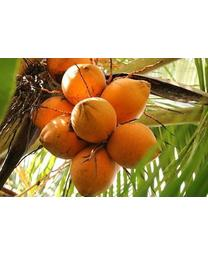coconut: (106, 120, 162, 170), (71, 143, 119, 197), (100, 77, 150, 125), (39, 114, 91, 160), (70, 97, 118, 144), (32, 95, 78, 127)
